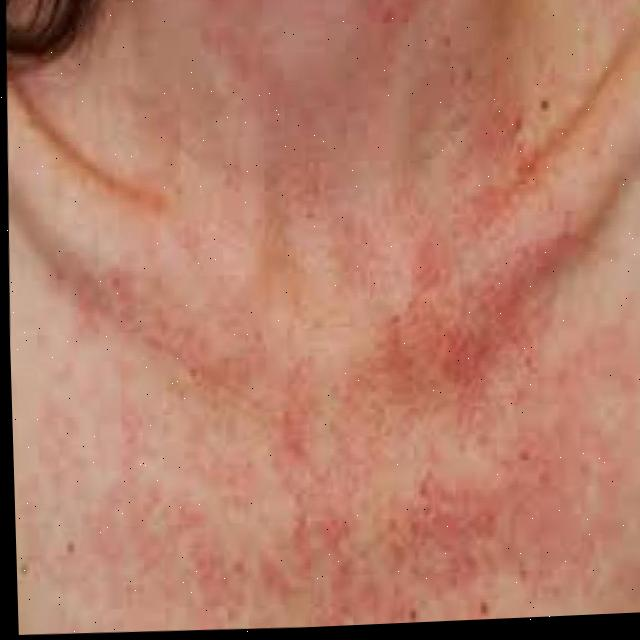Rosacea: (43, 88, 632, 638)
